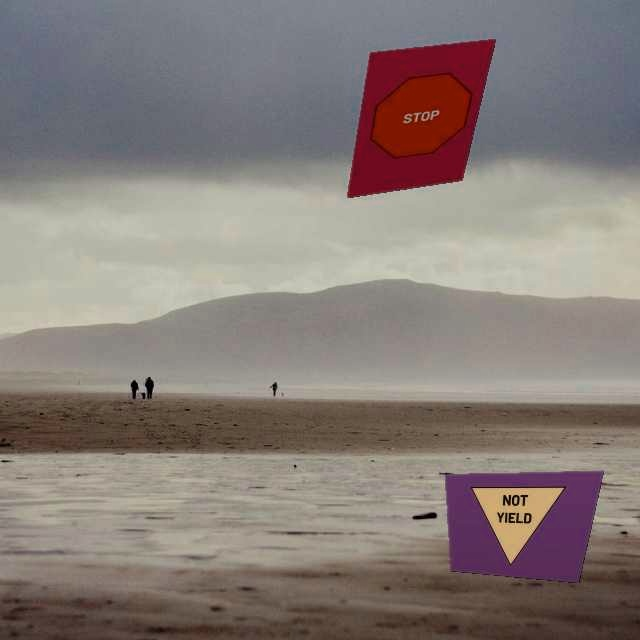NOT_YIELD: (462, 483, 566, 569)
STOP: (364, 59, 478, 173)
